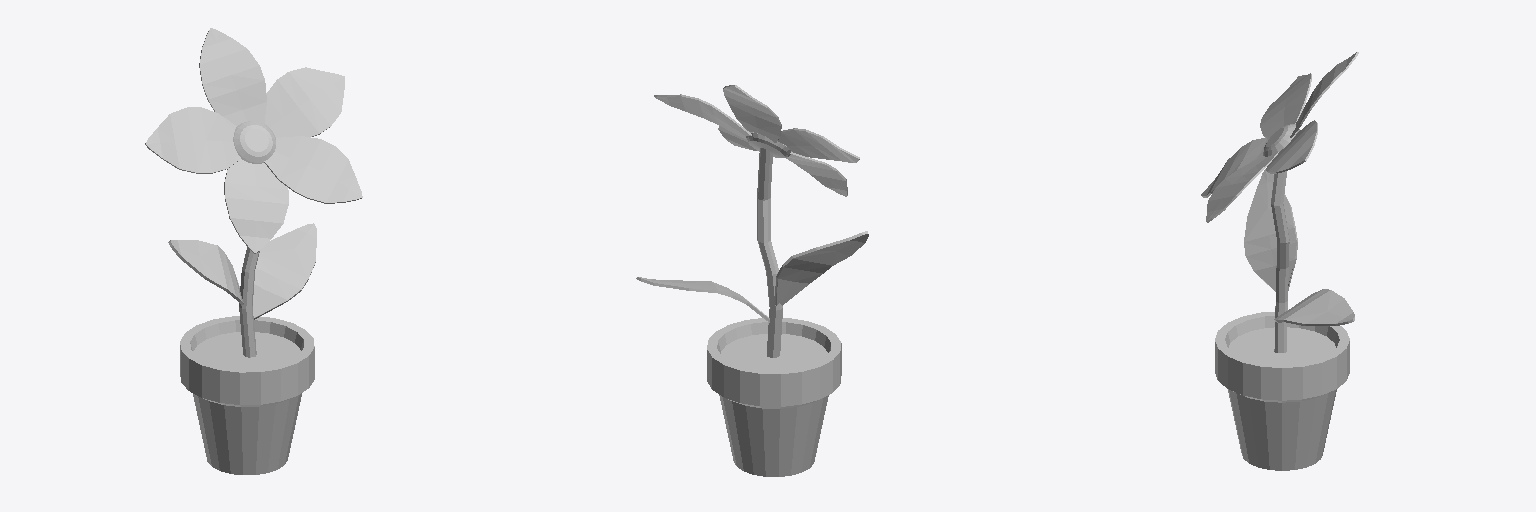
3 renders of one model, left to right at view 1: azimuth 30°, elevation 25°; view 2: azimuth 150°, elevation 25°; view 3: azimuth 270°, elevation 25°, orthographic.
Visible parts, largest first — view 1: flower_low_lambert1_0; view 2: flower_low_lambert1_0; view 3: flower_low_lambert1_0.
Part boxes in pixels (x1,y1,x2,y2): flower_low_lambert1_0: (145,28,362,474); flower_low_lambert1_0: (636,85,868,476); flower_low_lambert1_0: (1201,52,1358,470).
Size of the model in its own units: 9.26 by 17.58 by 6.27.